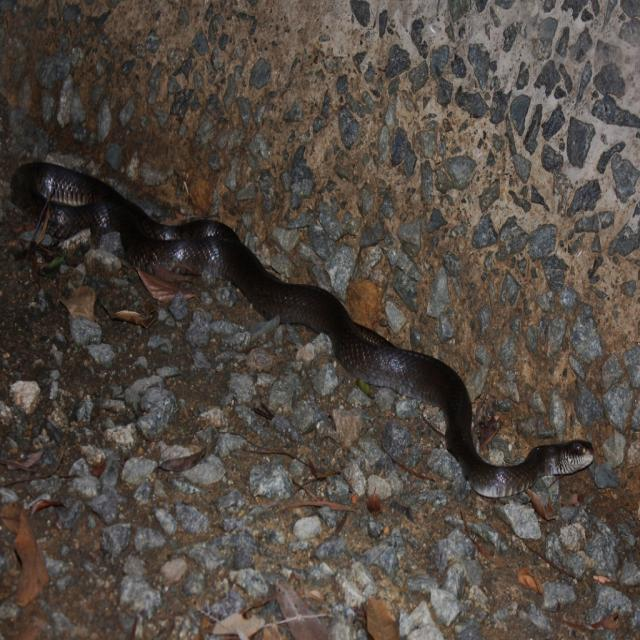Snake: (10, 158, 594, 500)
